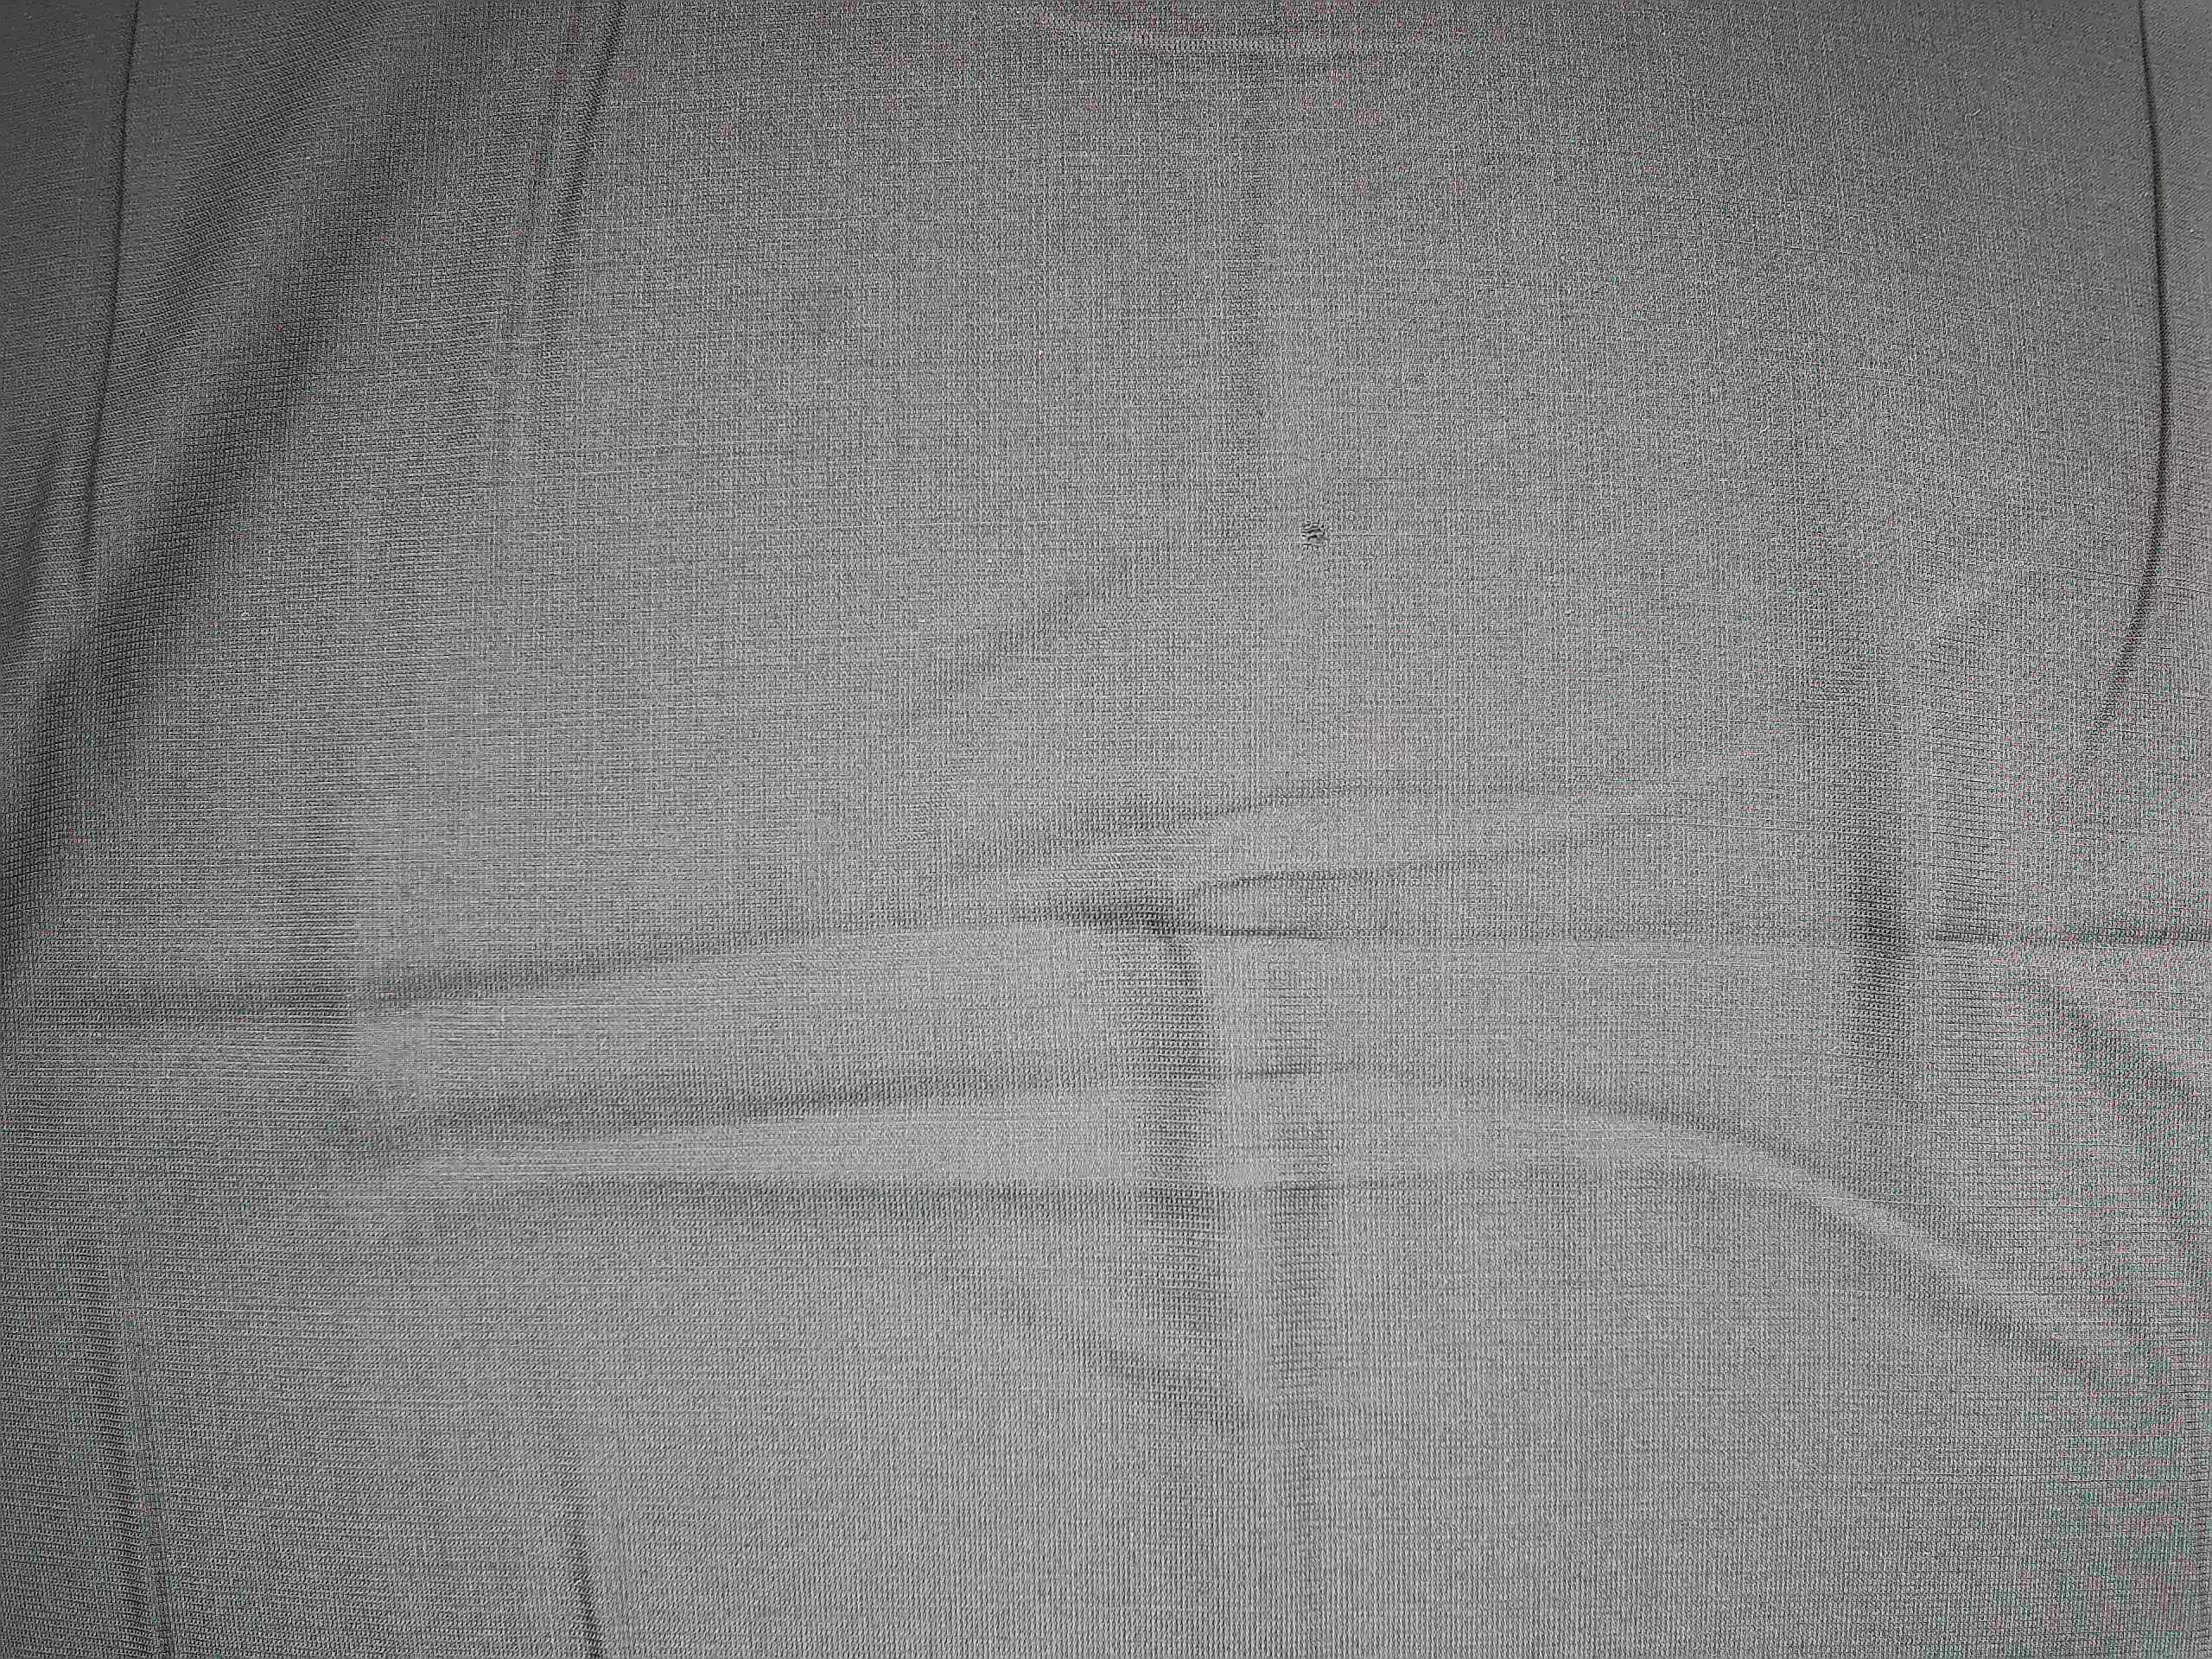rubbing-hole: (1291, 509, 1341, 561)
